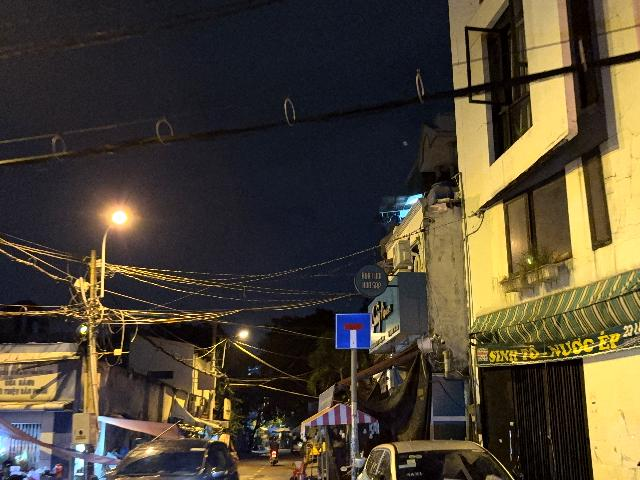duong-cut: (336, 313, 371, 349)
